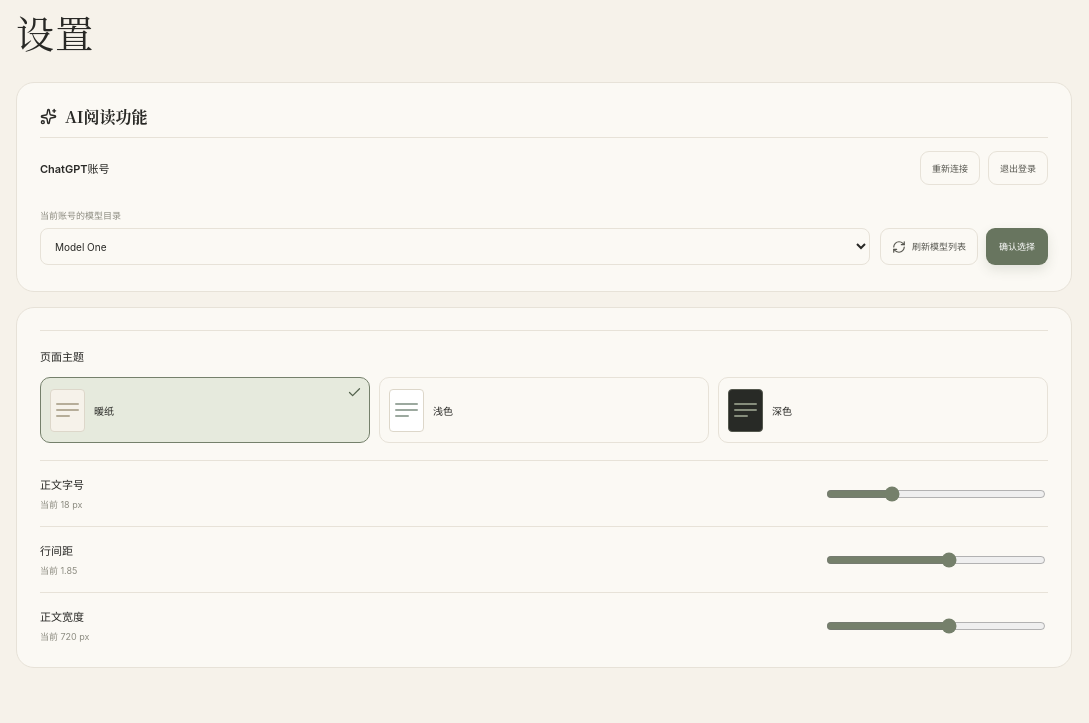
it: ChatGPT AI settings UI › requires confirmation before saving the selected live model
Select "Model Two" in the dropdown labelled "当前账号的模型目录" at (455,247), box top-left (40, 228), bottom-right (870, 265)
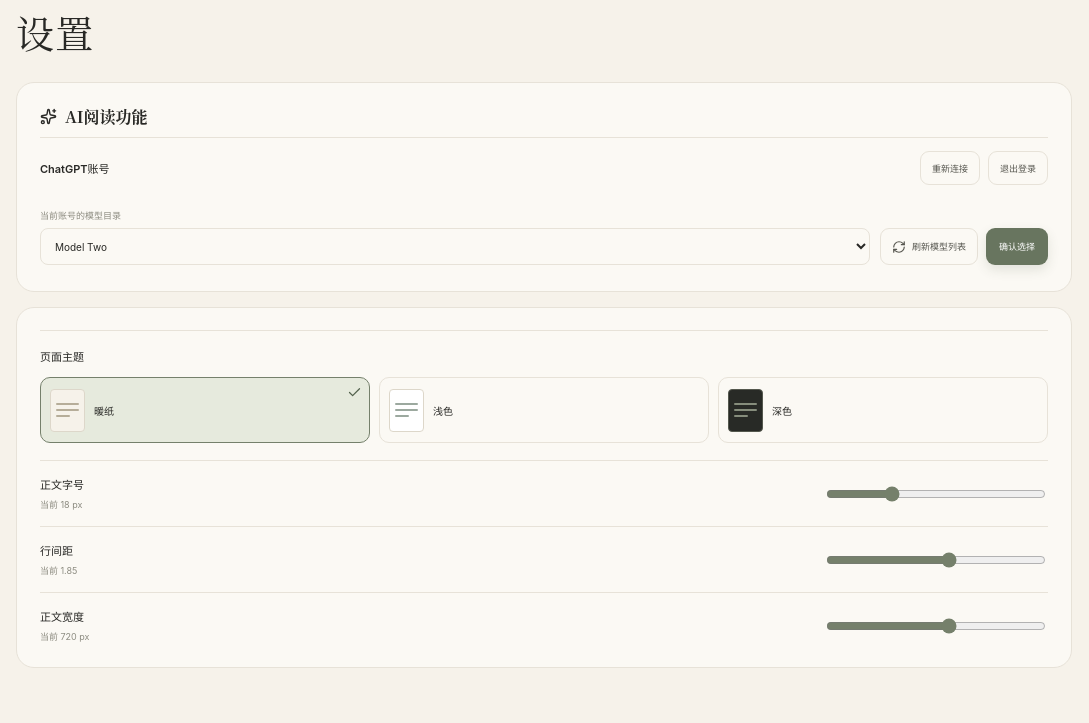
Click the button with class "ai-confirm-model" at (1017,247), box top-left (986, 228), bottom-right (1048, 265)
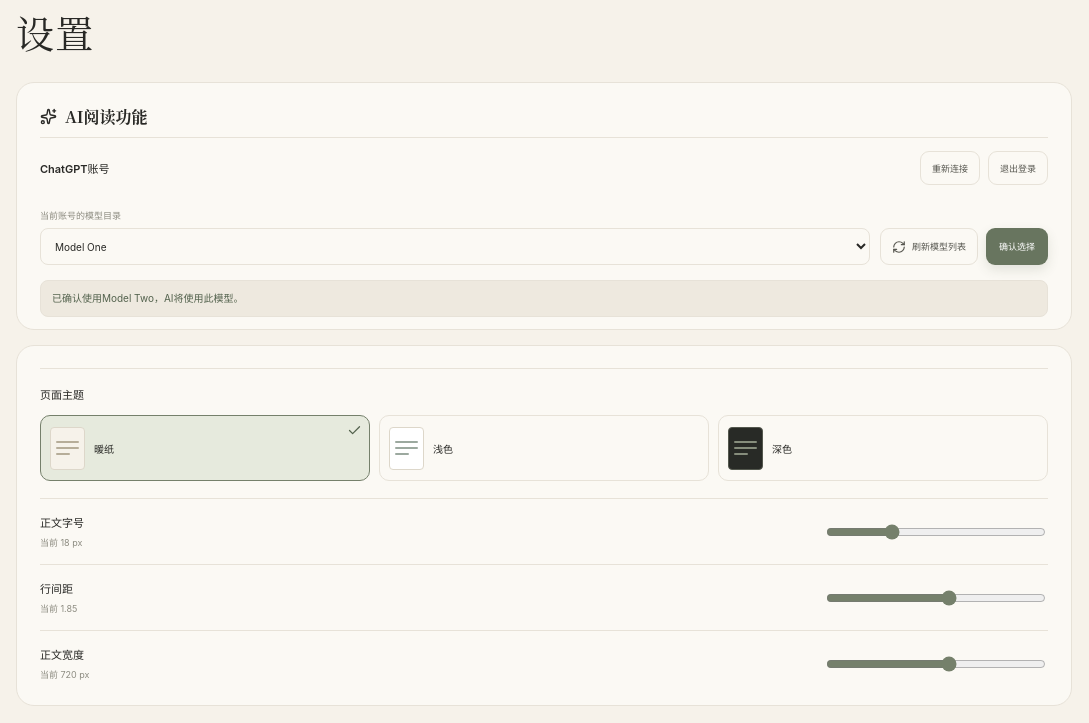
Result: the message with class "ai-notice" shows "Model Two" at top-left (52, 292), bottom-right (244, 304)
Result: the message with class "ai-notice" shows "AI将使用此模型" at top-left (52, 292), bottom-right (244, 304)
